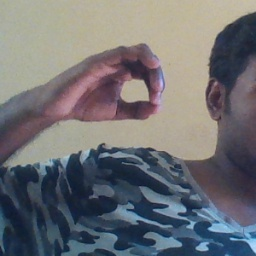O: (46, 40, 168, 127)
